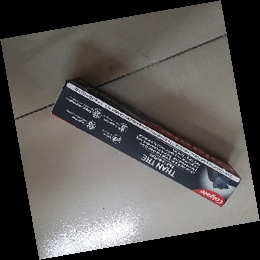Colgate Than: (48, 77, 243, 209)
